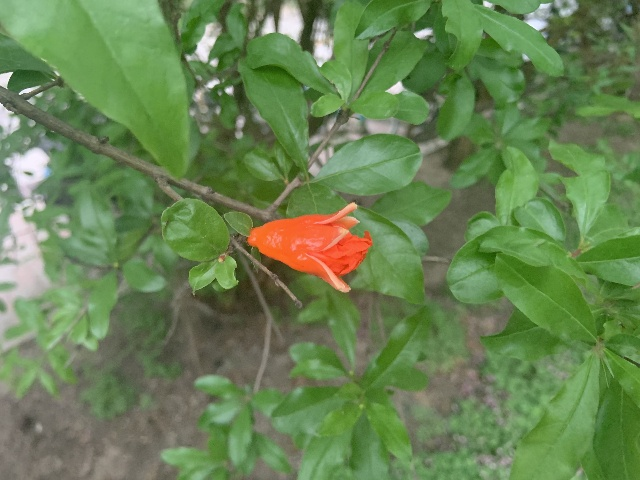flower: (248, 202, 373, 292)
